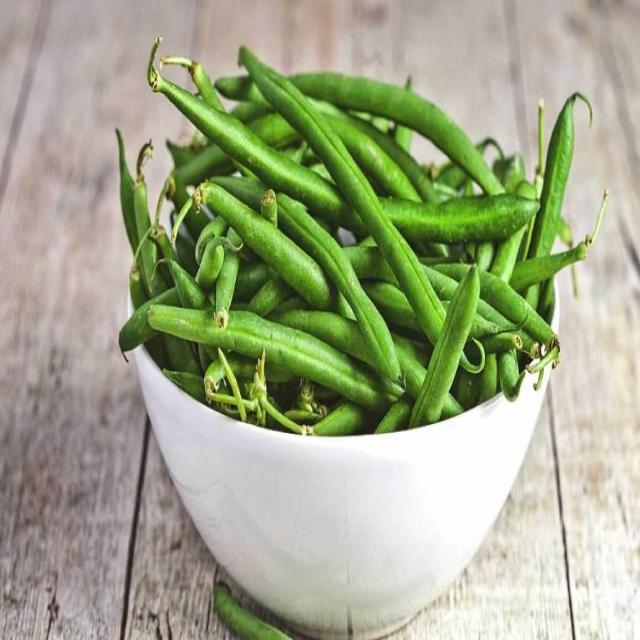Beans: (113, 11, 613, 442), (141, 570, 461, 639)
